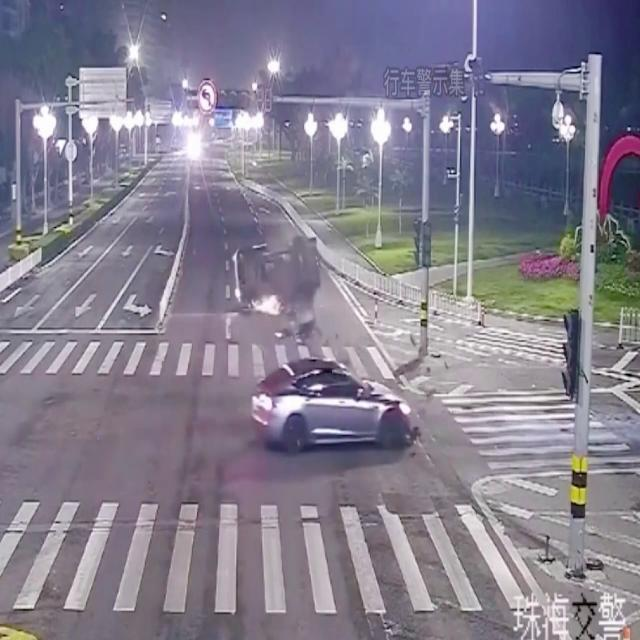accident: (232, 236, 422, 458)
